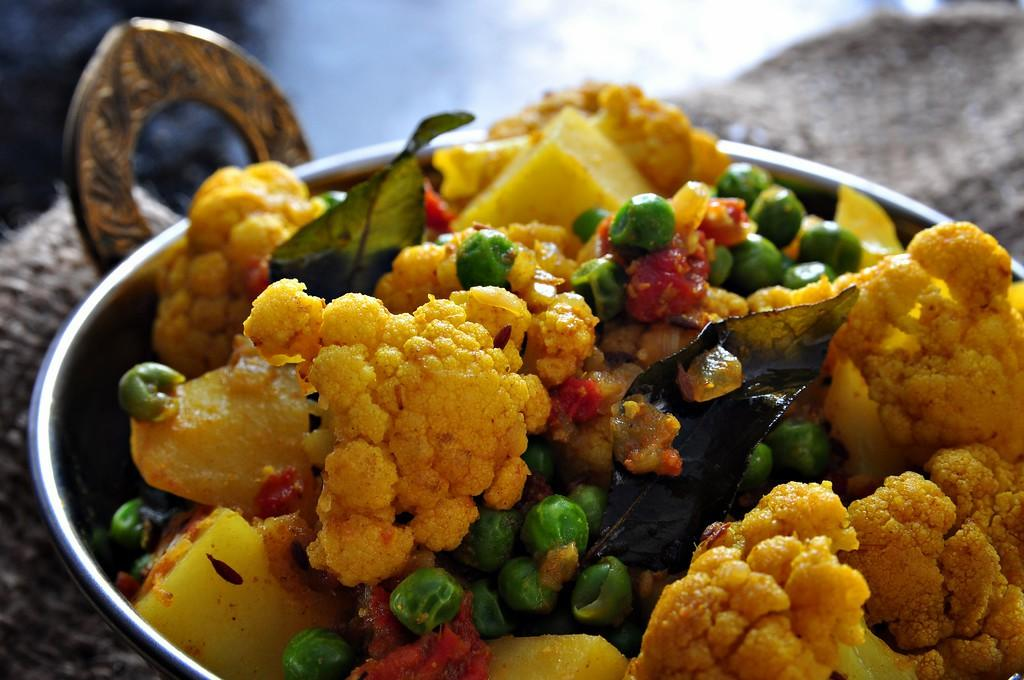AlooGobi: (122, 80, 1024, 680)
